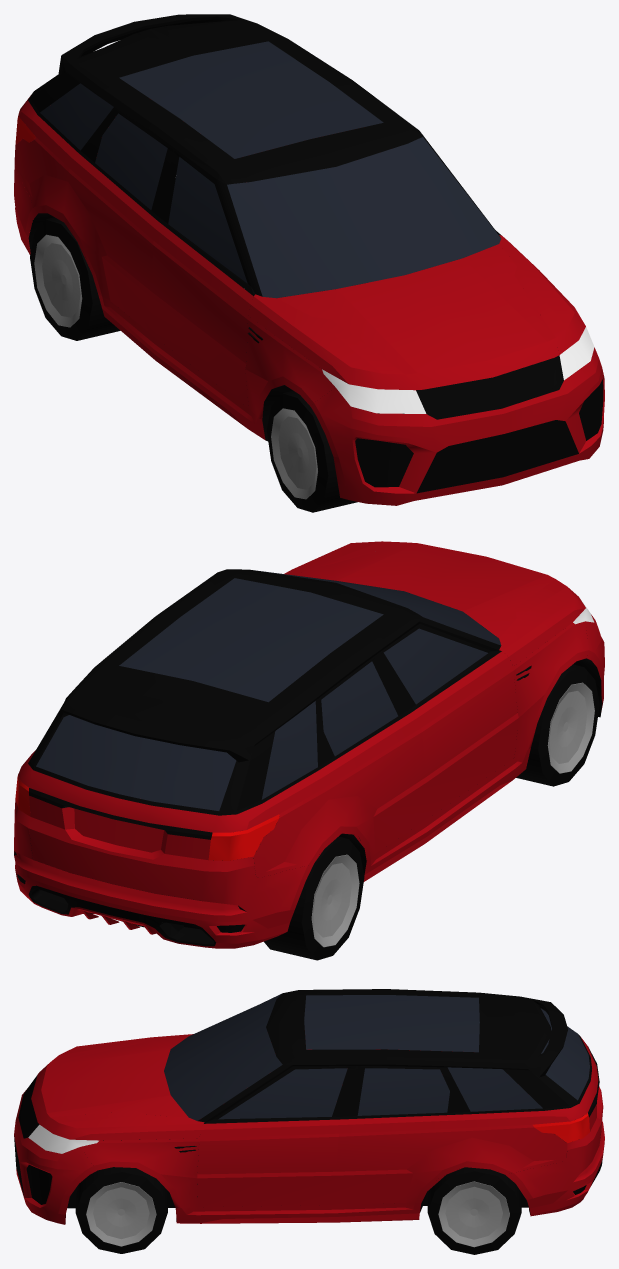
Rendered from car_landrover.glb.
3 views of the same model, one above another, from view 1: azimuth 30°, elevation 25°; view 2: azimuth 150°, elevation 25°; view 3: azimuth 270°, elevation 25° (orthographic). The views are drawn at different scales.
Visible parts, largest first — view 1: paint, glass, black_2, tire_FL, tire_BL, rim_BL, rim_FL, lamp_f; view 2: paint, glass, black_2, tire_BL, rim_BL, tire_FL, rim_FL, lamp_r; view 3: paint, glass, black_2, rim_BR, rim_FR, tire_FR, tire_BR, lamp_f, lamp_r.
Part boxes in pixels (box(x1,y1,x2,y2)): paint: box(14, 95, 604, 505); glass: box(40, 41, 501, 298); black_2: box(28, 14, 603, 493); tire_FL: box(266, 390, 357, 512); tire_BL: box(30, 217, 120, 340); rim_BL: box(34, 234, 82, 327); rim_FL: box(271, 408, 317, 499); lamp_f: box(322, 327, 594, 413); paint: box(14, 541, 604, 948); glass: box(36, 570, 501, 810); black_2: box(14, 569, 602, 946); tire_BL: box(264, 836, 364, 960); rim_BL: box(311, 854, 359, 947); tire_FL: box(516, 664, 599, 786); rim_FL: box(547, 682, 594, 773); lamp_r: box(15, 774, 279, 860); paint: box(14, 1034, 604, 1224); glass: box(164, 993, 589, 1120); black_2: box(14, 989, 602, 1223); rim_BR: box(438, 1181, 509, 1247); rim_FR: box(86, 1182, 156, 1246); tire_FR: box(75, 1167, 168, 1253); tire_BR: box(427, 1167, 521, 1254); lamp_f: box(28, 1124, 98, 1153); lamp_r: box(533, 1113, 589, 1143).
Size of the model in its own units: 1.98 by 1.69 by 4.88.
